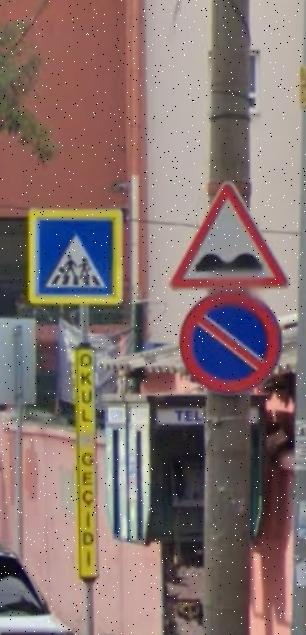nopark: (180, 294, 280, 393)
